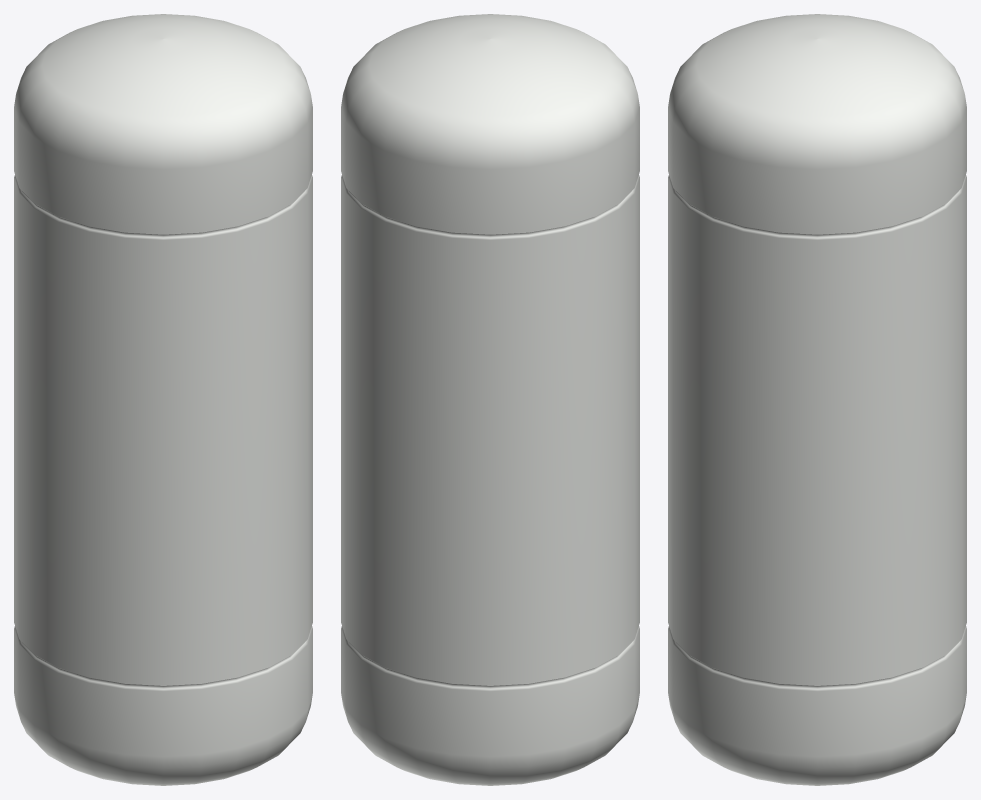
The model's file is propane-small-shell-authored-atlas.glb.
The picture shows the model from 3 angles, left to right: view 1: azimuth 30°, elevation 25°; view 2: azimuth 150°, elevation 25°; view 3: azimuth 270°, elevation 25°; orthographic projection.
Parts seen in each view (by area): view 1: Authored surface; view 2: Authored surface; view 3: Authored surface.
Part boxes in pixels (<box>): Authored surface: <box>14,14,312,785</box>; Authored surface: <box>341,14,639,785</box>; Authored surface: <box>668,14,966,785</box>.
Bounding box in the file's own units: 2.4 × 6.4 × 2.4.
1 material, 1 textured.
